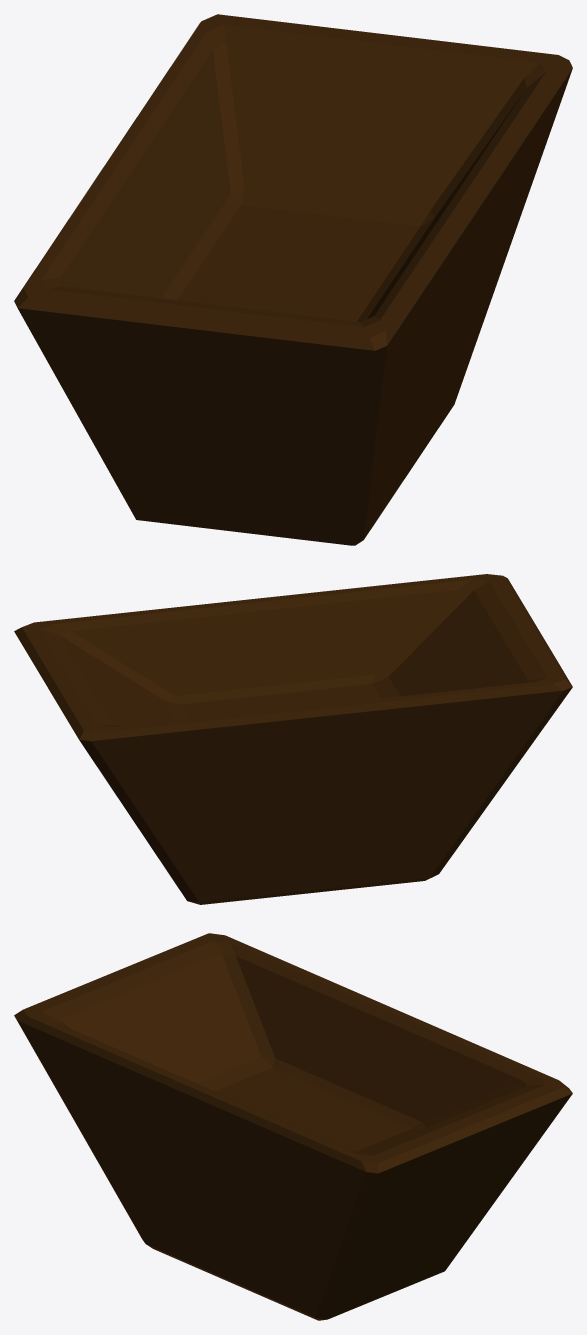
Rendered from bac_potion.fbx.
The picture shows the model from 3 angles, top to bottom: view 1: azimuth 30°, elevation 25°; view 2: azimuth 150°, elevation 25°; view 3: azimuth 270°, elevation 25°; orthographic projection. The views are drawn at different scales.
Parts seen in each view (by area): view 1: Bac potions; view 2: Bac potions; view 3: Bac potions.
Boxes of the visible parts, x1,y1,x2,y2 form: Bac potions: [14, 14, 572, 545]; Bac potions: [14, 574, 572, 904]; Bac potions: [14, 933, 572, 1320].
Bounding box in the file's own units: 95.55 × 39.78 × 94.73.
